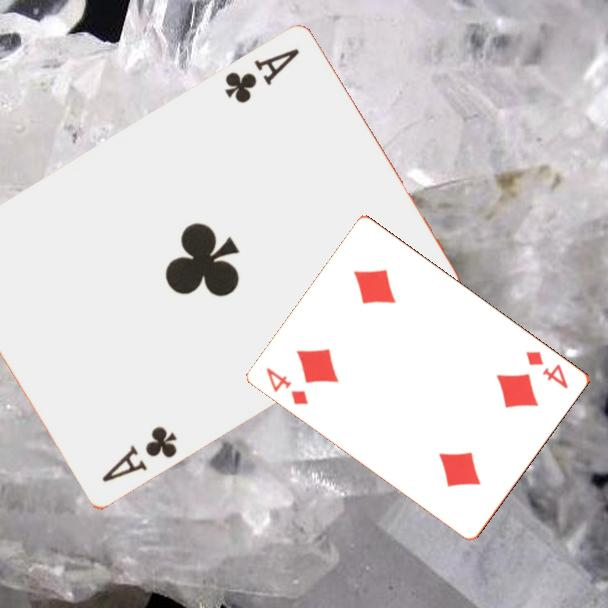c01: (98, 423, 180, 486), (221, 45, 303, 107)
d04: (523, 347, 572, 392), (263, 364, 312, 408)
